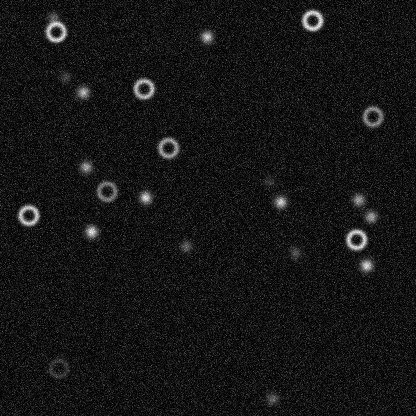Ring: (156, 135, 180, 159), (94, 179, 118, 203), (360, 104, 384, 128), (46, 356, 70, 380), (131, 76, 155, 100), (300, 8, 324, 32), (16, 203, 40, 227), (43, 19, 67, 43), (344, 227, 368, 251)
Spot: (75, 84, 91, 100), (45, 9, 61, 25), (83, 223, 99, 239), (57, 68, 73, 84), (178, 238, 194, 254), (287, 244, 303, 260), (272, 193, 288, 209), (260, 172, 276, 188), (77, 158, 93, 174), (350, 191, 366, 207), (358, 257, 374, 273), (198, 28, 214, 44), (264, 390, 280, 406), (362, 208, 378, 224), (137, 189, 153, 205)
